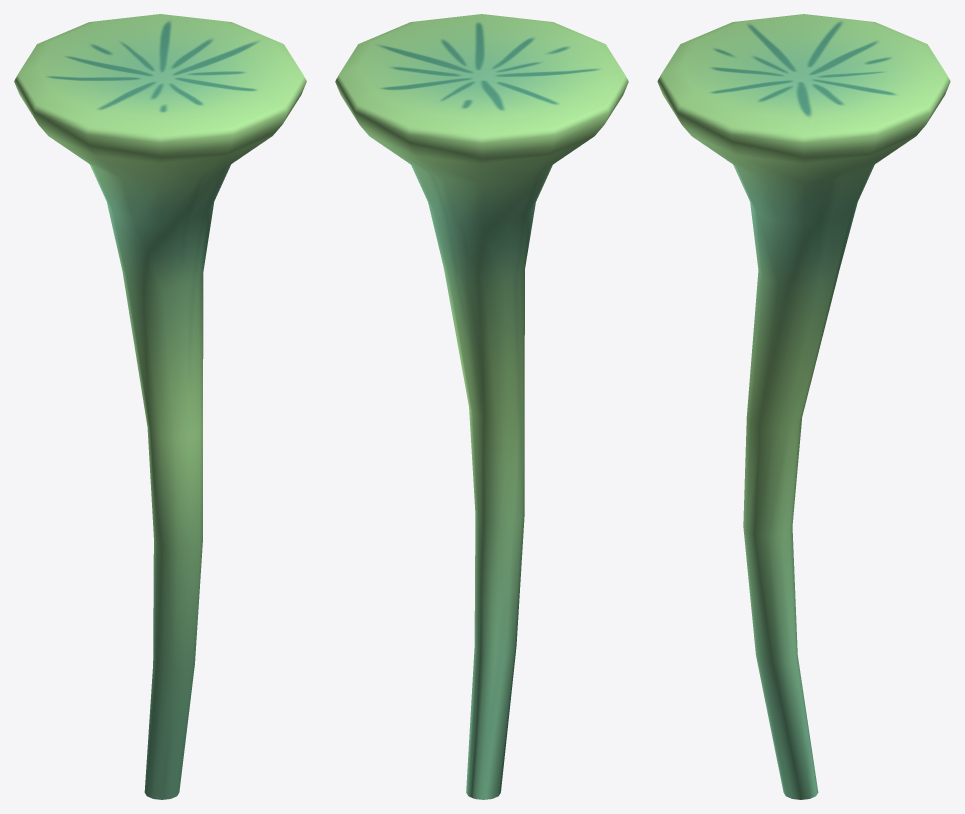
The model's file is GiantCurniculus_03.fbx.
The picture shows the model from 3 angles, left to right: view 1: azimuth 30°, elevation 25°; view 2: azimuth 150°, elevation 25°; view 3: azimuth 270°, elevation 25°; orthographic projection.
Visible parts, largest first — view 1: GiantCurniculus_03; view 2: GiantCurniculus_03; view 3: GiantCurniculus_03.
Boxes of the visible parts, x1,y1,x2,y2 form: GiantCurniculus_03: (14, 14, 306, 799); GiantCurniculus_03: (335, 14, 628, 799); GiantCurniculus_03: (657, 14, 950, 799).
Bounding box in the file's own units: 447 × 1219 × 447.
